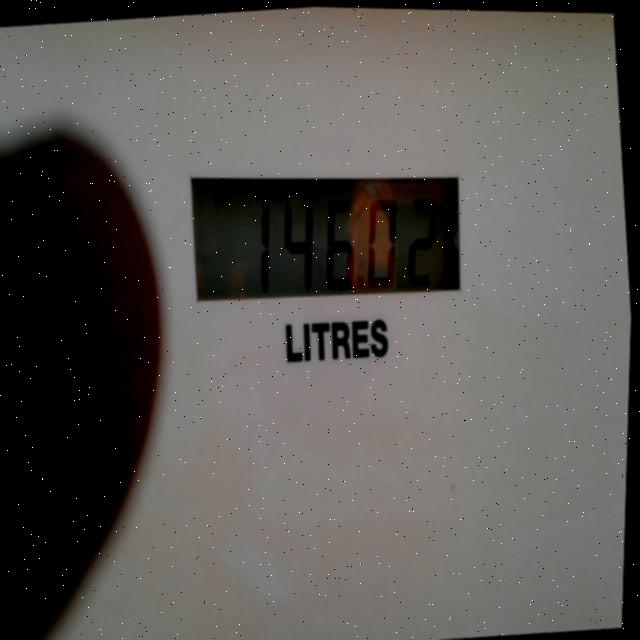.: (349, 267, 372, 301)
0: (360, 192, 407, 285)
1: (248, 193, 288, 293)
2: (398, 194, 449, 297)
4: (278, 193, 324, 295)
6: (317, 188, 364, 296)
